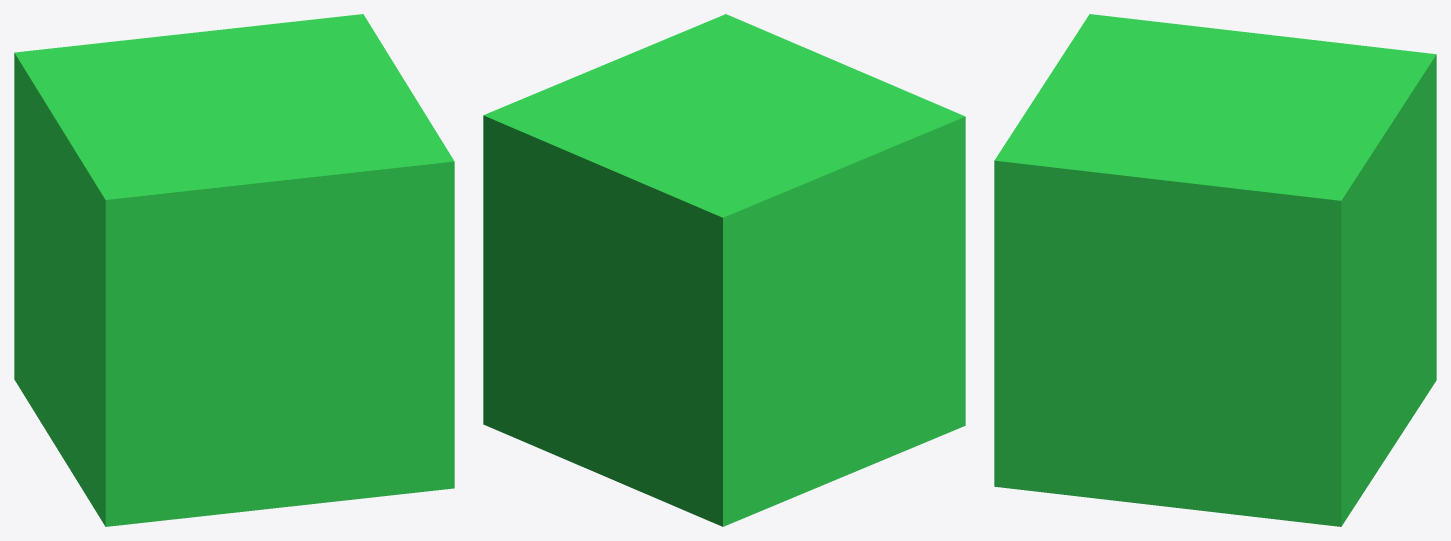
Rendered from green_cube.glb.
3 views of the same model, side by side, from view 1: azimuth 30°, elevation 25°; view 2: azimuth 150°, elevation 25°; view 3: azimuth 270°, elevation 25° (orthographic). The views are drawn at different scales.
Visible parts, largest first — view 1: Cube; view 2: Cube; view 3: Cube.
Part boxes in pixels (<box>): Cube: <box>14,14,454,526</box>; Cube: <box>483,14,965,526</box>; Cube: <box>994,14,1436,526</box>.
Bounding box in the file's own units: 2.46 × 2 × 2.46.
